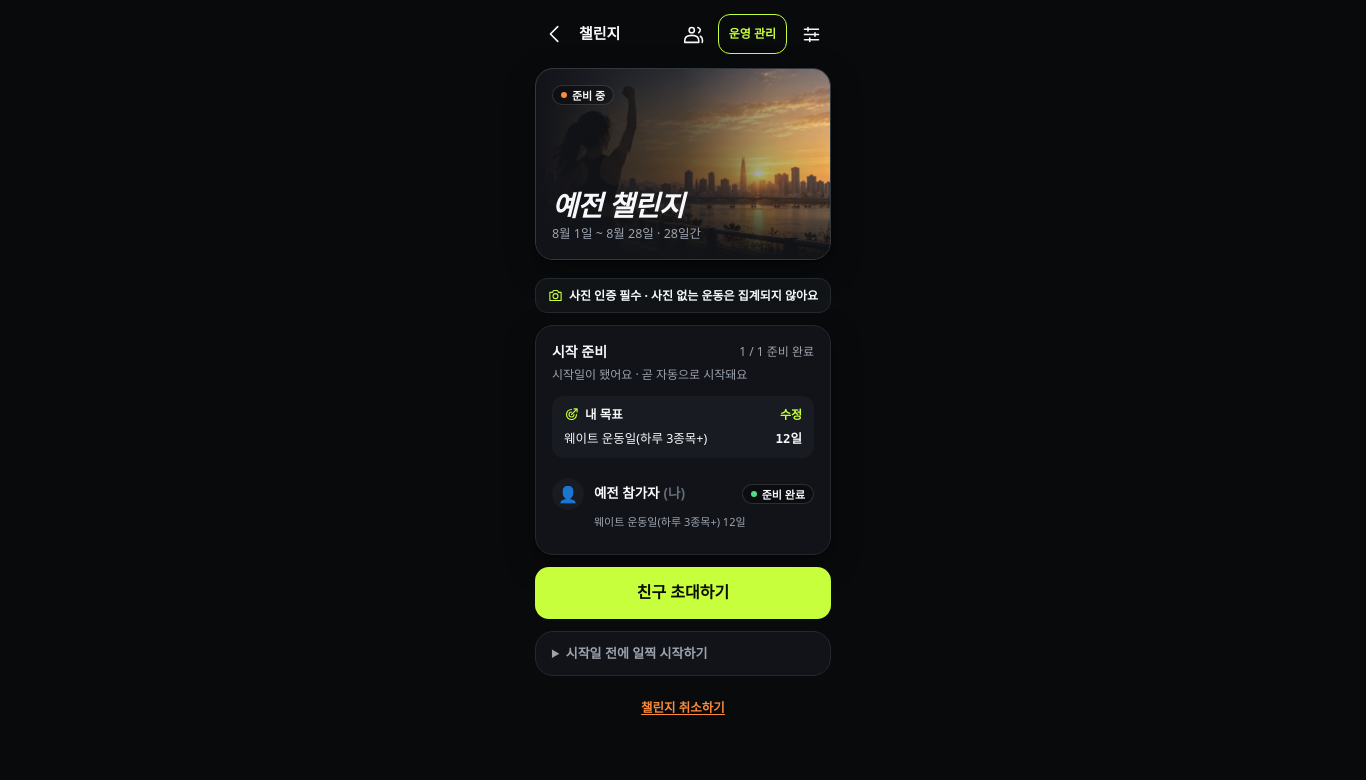
Test: ChallengePage 챌린지 전환 › 새 챌린지 조회가 실패해도 이전 상세 정보를 다시 보여주지 않는다
Expected: the text "예전 참가자" is shown, [594,484,660,502]
Click the button named "챌린지 목록으로": coordinates (555, 34) [535,14,575,54]
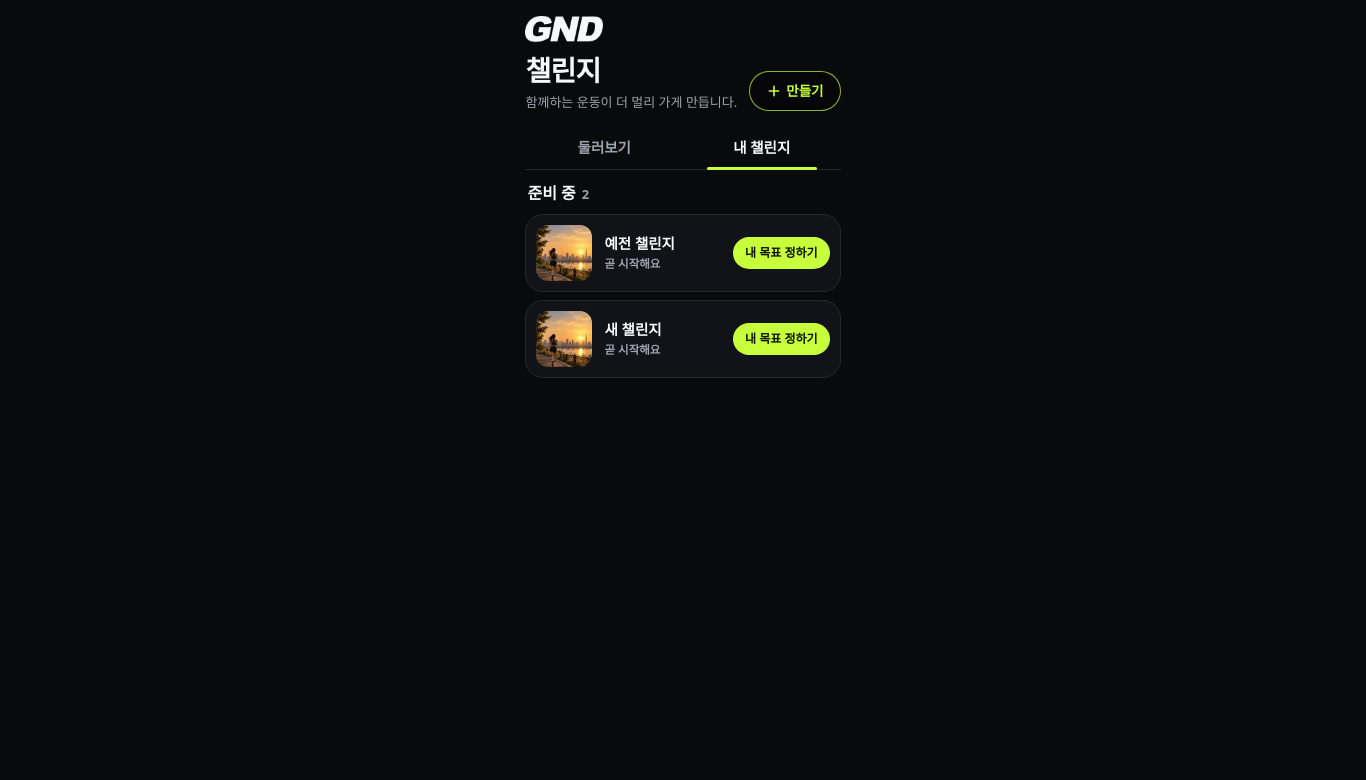
Click the button named "새 챌린지 열기": coordinates (564, 339) [536,311,592,367]
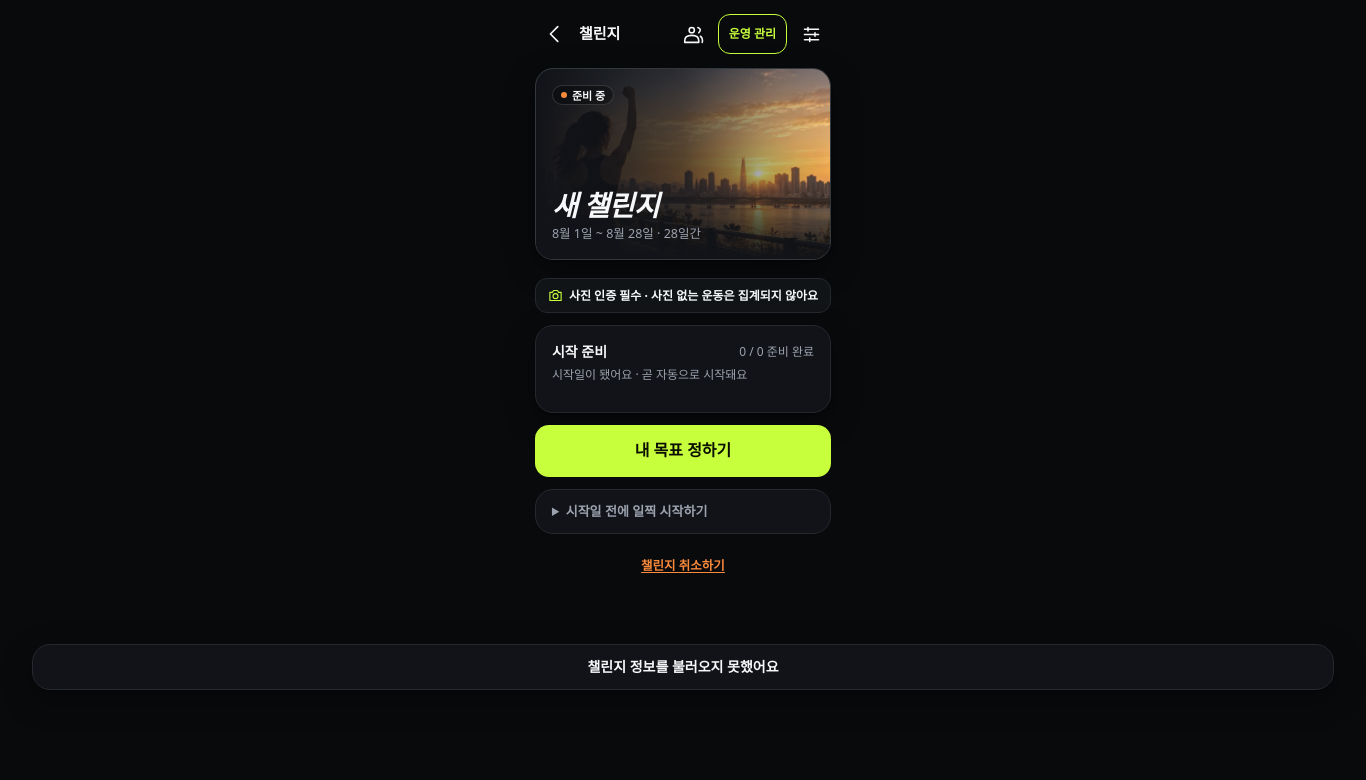
Expected: the button "예전 참가자" is not shown
Expected: the text "챌린지 정보를 불러오지 못했어요" is shown, [32,644,1334,690]
